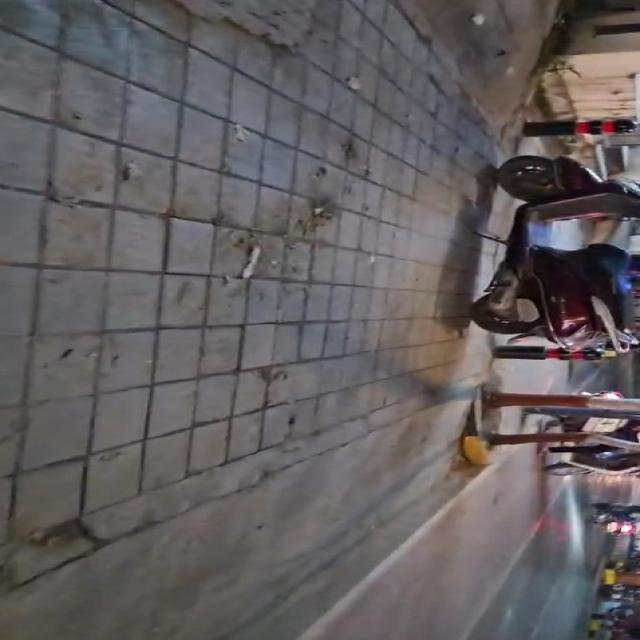obstacle: (487, 393, 639, 414), (523, 119, 637, 137), (493, 345, 605, 360), (485, 433, 591, 445), (615, 572, 639, 586)
vehical: (472, 156, 639, 353), (545, 417, 639, 475)
